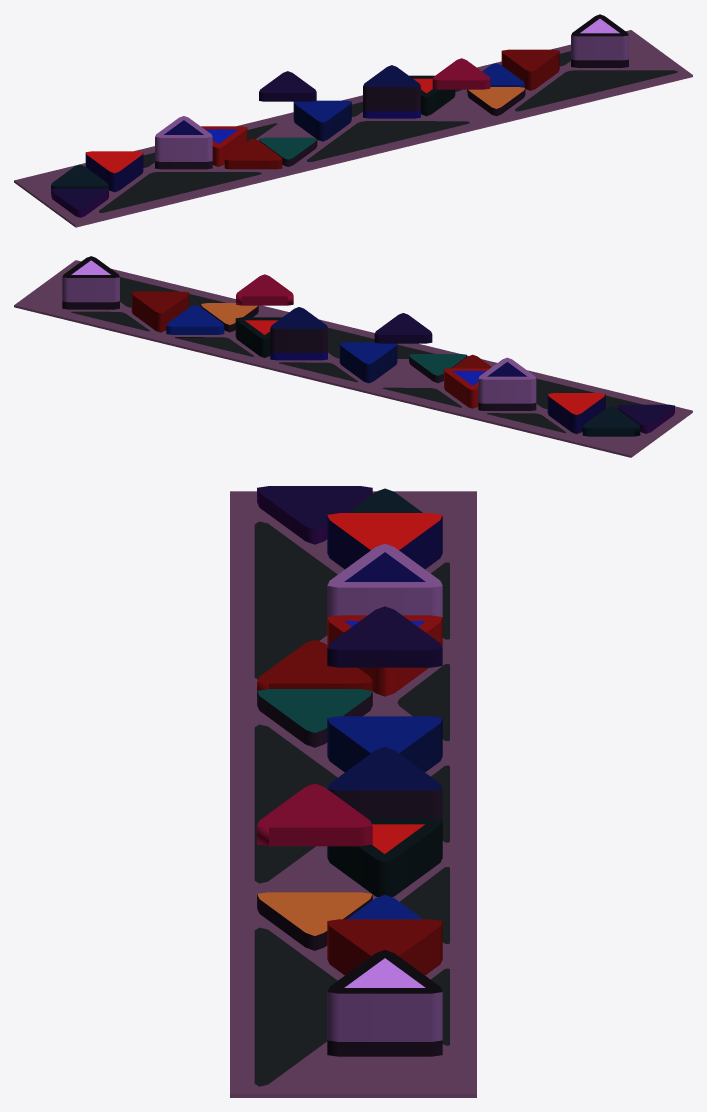
File: W_O_FootpathDecor_002_L3.fbx
3 views of the same model, one above another, from view 1: azimuth 30°, elevation 25°; view 2: azimuth 150°, elevation 25°; view 3: azimuth 270°, elevation 25° (orthographic). The views are drawn at different scales.
Parts seen in each view (by area): view 1: W_O_FootpathDecor_002_L3; view 2: W_O_FootpathDecor_002_L3; view 3: W_O_FootpathDecor_002_L3.
Part boxes in pixels (x1,y1,x2,y2): W_O_FootpathDecor_002_L3: (14,14,692,227); W_O_FootpathDecor_002_L3: (14,256,692,457); W_O_FootpathDecor_002_L3: (230,486,476,1097).
Size of the model in its own units: 19 by 1.56 by 3.29.
